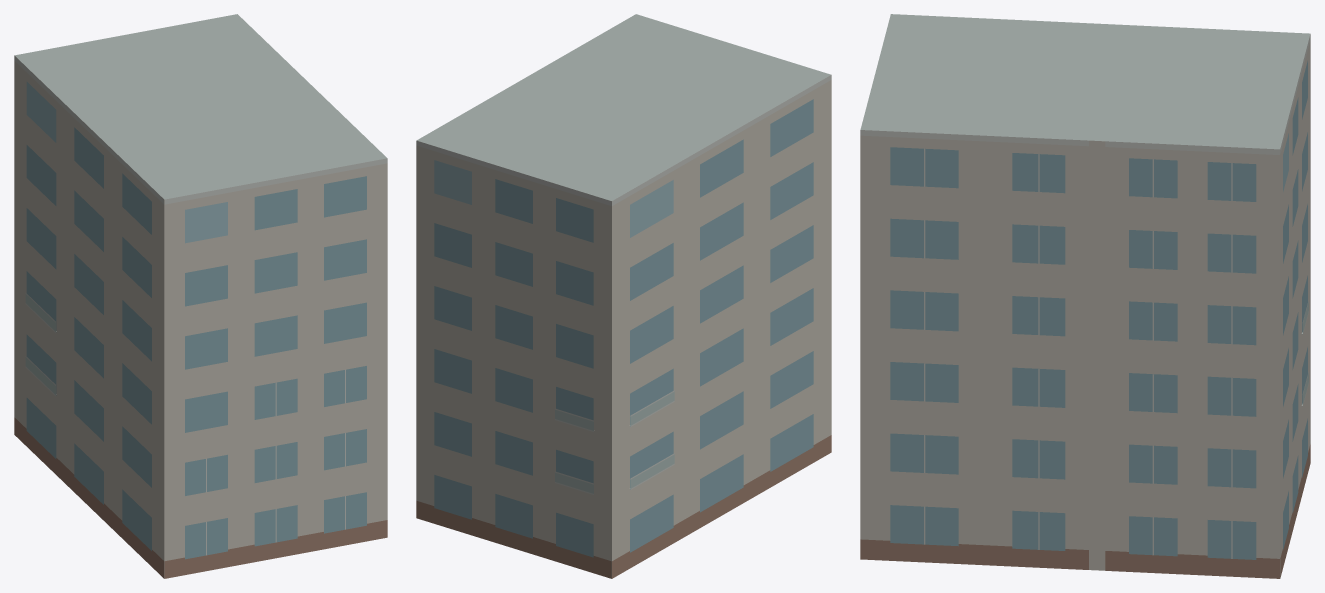
File: survey-upis-32567027.glb
The picture shows the model from 3 angles, left to right: view 1: azimuth 30°, elevation 25°; view 2: azimuth 150°, elevation 25°; view 3: azimuth 270°, elevation 25°; orthographic projection. The views are drawn at different scales.
Visible parts, largest first — view 1: survey-upis-32567027.tmp; view 2: survey-upis-32567027.tmp; view 3: survey-upis-32567027.tmp.
Part boxes in pixels (x1,y1,x2,y2): survey-upis-32567027.tmp: (14, 14, 387, 578); survey-upis-32567027.tmp: (416, 14, 831, 578); survey-upis-32567027.tmp: (860, 14, 1310, 578).
Size of the model in its own units: 12.38 by 18.3 by 17.39.
